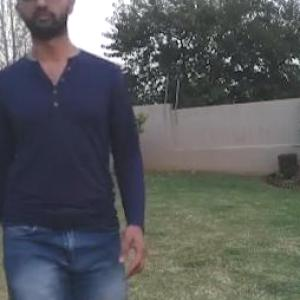follow: (1, 0, 150, 299)
